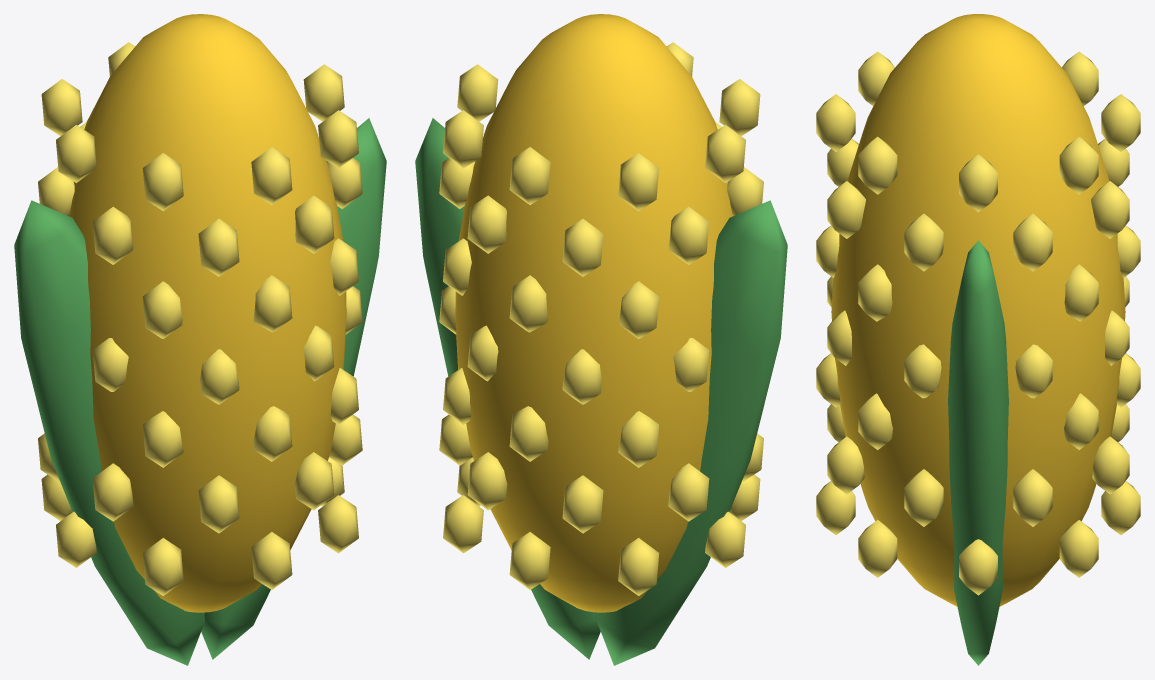
File: corn.glb
The picture shows the model from 3 angles, left to right: view 1: azimuth 30°, elevation 25°; view 2: azimuth 150°, elevation 25°; view 3: azimuth 270°, elevation 25°; orthographic projection.
Visible parts, largest first — view 1: corn; view 2: corn; view 3: corn.
Boxes of the visible parts, left/top/right/bottom form: corn: left=14, top=14, right=386, bottom=665; corn: left=415, top=14, right=787, bottom=665; corn: left=816, top=14, right=1140, bottom=665.
Bounding box in the file's own units: 0.5984 × 1 × 0.4591.
